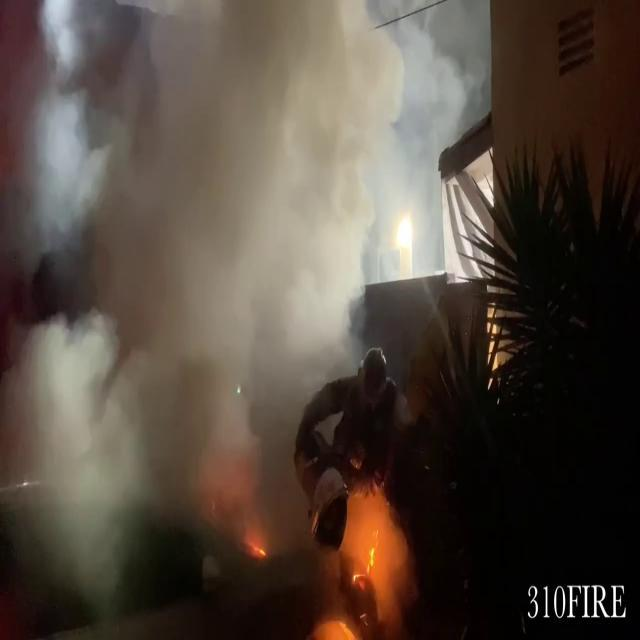Fire: (350, 492, 404, 592), (394, 208, 416, 276)
Smoke: (2, 1, 411, 590)
